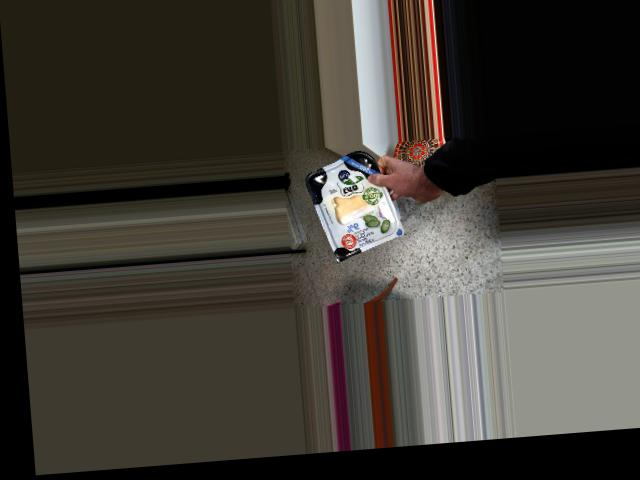cheese: (317, 158, 390, 250)
